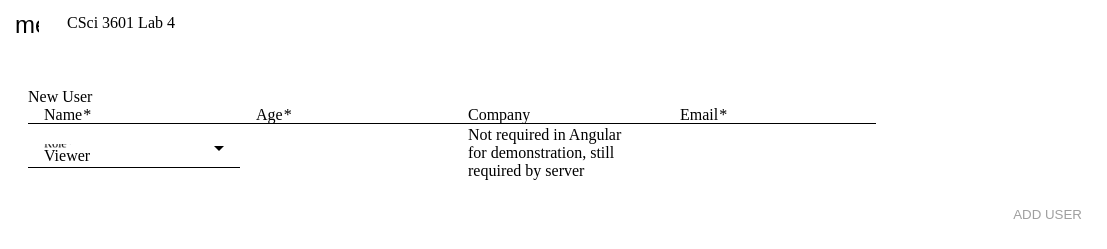
Test: Add user › Should enable and disable the add user button
The width and height of the screenshot is (1107, 249).
Expected: the button with test id "confirmAddUserButton" is disabled, x1=1005 y1=196 x2=1090 y2=232
Type "test" into the field with placeholder "Name" at (134, 115), box x1=44 y1=106 x2=224 y2=124
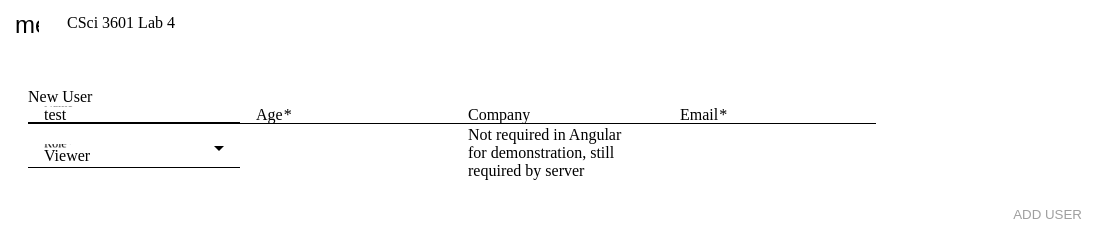
Expected: the button with test id "confirmAddUserButton" is disabled, x1=1005 y1=196 x2=1090 y2=232
Type "20" into the number field with placeholder "Age" at (346, 115), box x1=256 y1=106 x2=436 y2=124
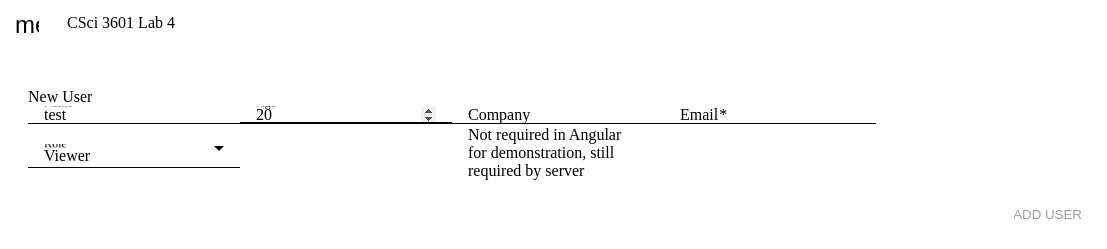
Expected: the button with test id "confirmAddUserButton" is disabled, x1=1005 y1=196 x2=1090 y2=232
Type "invalid" into the field with placeholder "Email" at (770, 115), box x1=680 y1=106 x2=860 y2=124
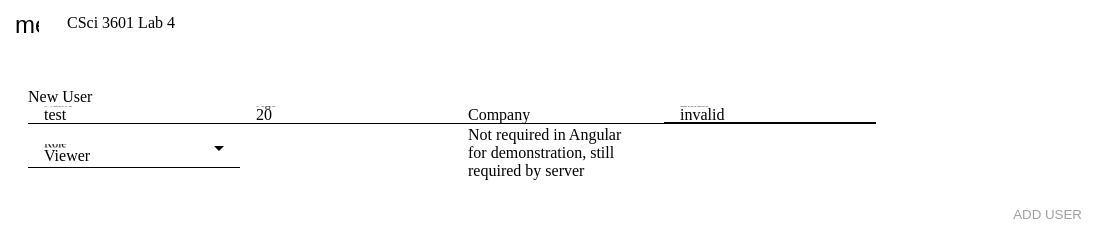
Expected: the button with test id "confirmAddUserButton" is disabled, x1=1005 y1=196 x2=1090 y2=232
Replace the text in the field with placeholder "Email" with "user@example.com" at (770, 115), box x1=680 y1=106 x2=860 y2=124
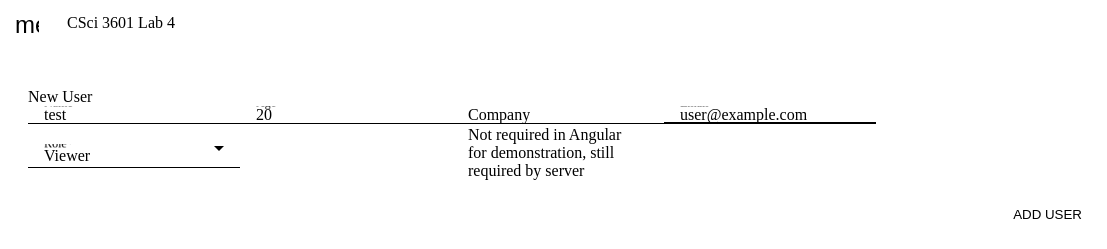
Expected: the button with test id "confirmAddUserButton" is enabled, x1=1005 y1=196 x2=1090 y2=232
